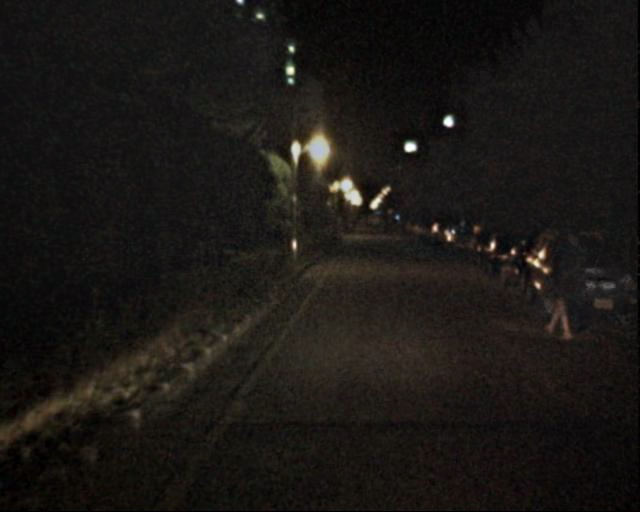person: (550, 226, 594, 333), (539, 243, 580, 342)
